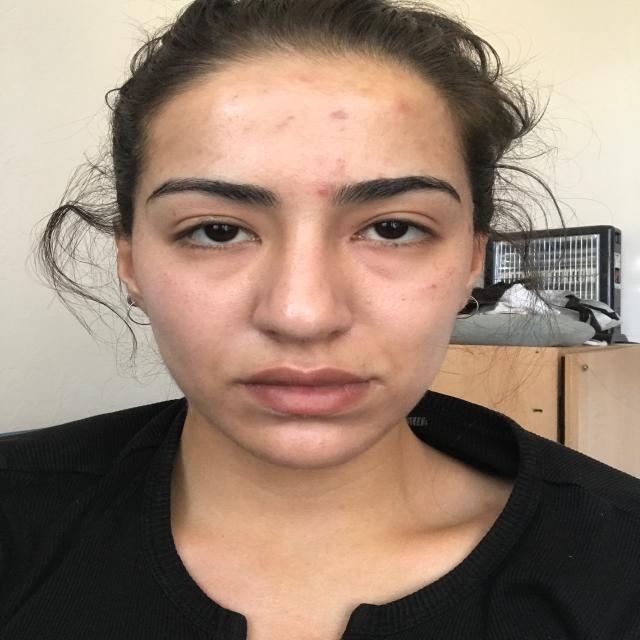Acne: (391, 96, 414, 117), (274, 114, 297, 134), (332, 154, 348, 178), (304, 89, 338, 98), (330, 108, 350, 120), (318, 183, 332, 196), (356, 91, 374, 99), (363, 291, 372, 307), (315, 437, 328, 448), (296, 76, 313, 84), (446, 266, 458, 276), (245, 123, 258, 132), (426, 282, 438, 290), (228, 94, 240, 102), (261, 87, 271, 95), (398, 296, 407, 303)
Blackheads: (289, 250, 298, 272)
Englarged-Pores: (226, 280, 254, 304), (358, 285, 382, 312)
Eyebags: (342, 239, 452, 282), (167, 242, 259, 286)
Wrinkles: (310, 135, 356, 141)
